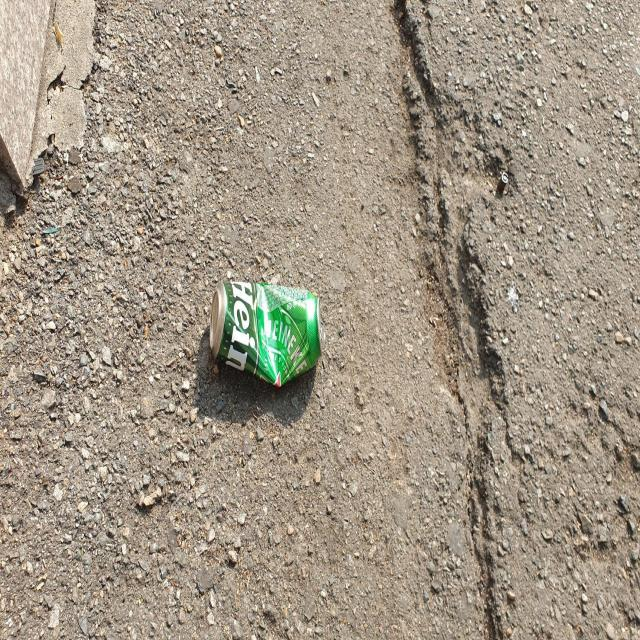can: (209, 279, 325, 387)
